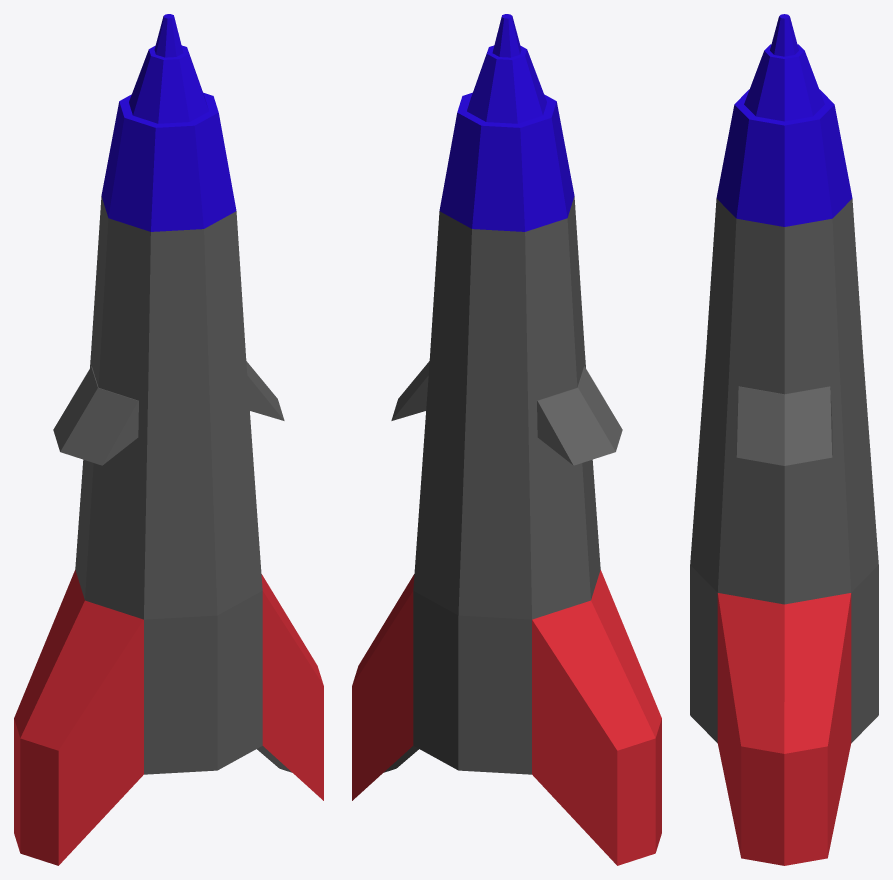
The model's file is Rocket.fbx.
3 renders of one model, left to right at view 1: azimuth 30°, elevation 25°; view 2: azimuth 150°, elevation 25°; view 3: azimuth 270°, elevation 25°, orthographic. The views are drawn at different scales.
Parts seen in each view (by area): view 1: Cylinder; view 2: Cylinder; view 3: Cylinder.
Boxes of the visible parts, x1,y1,x2,y2 form: Cylinder: (14, 14, 323, 865); Cylinder: (352, 14, 661, 865); Cylinder: (690, 14, 878, 865).
Size of the model in its own units: 354 by 911 by 200.
